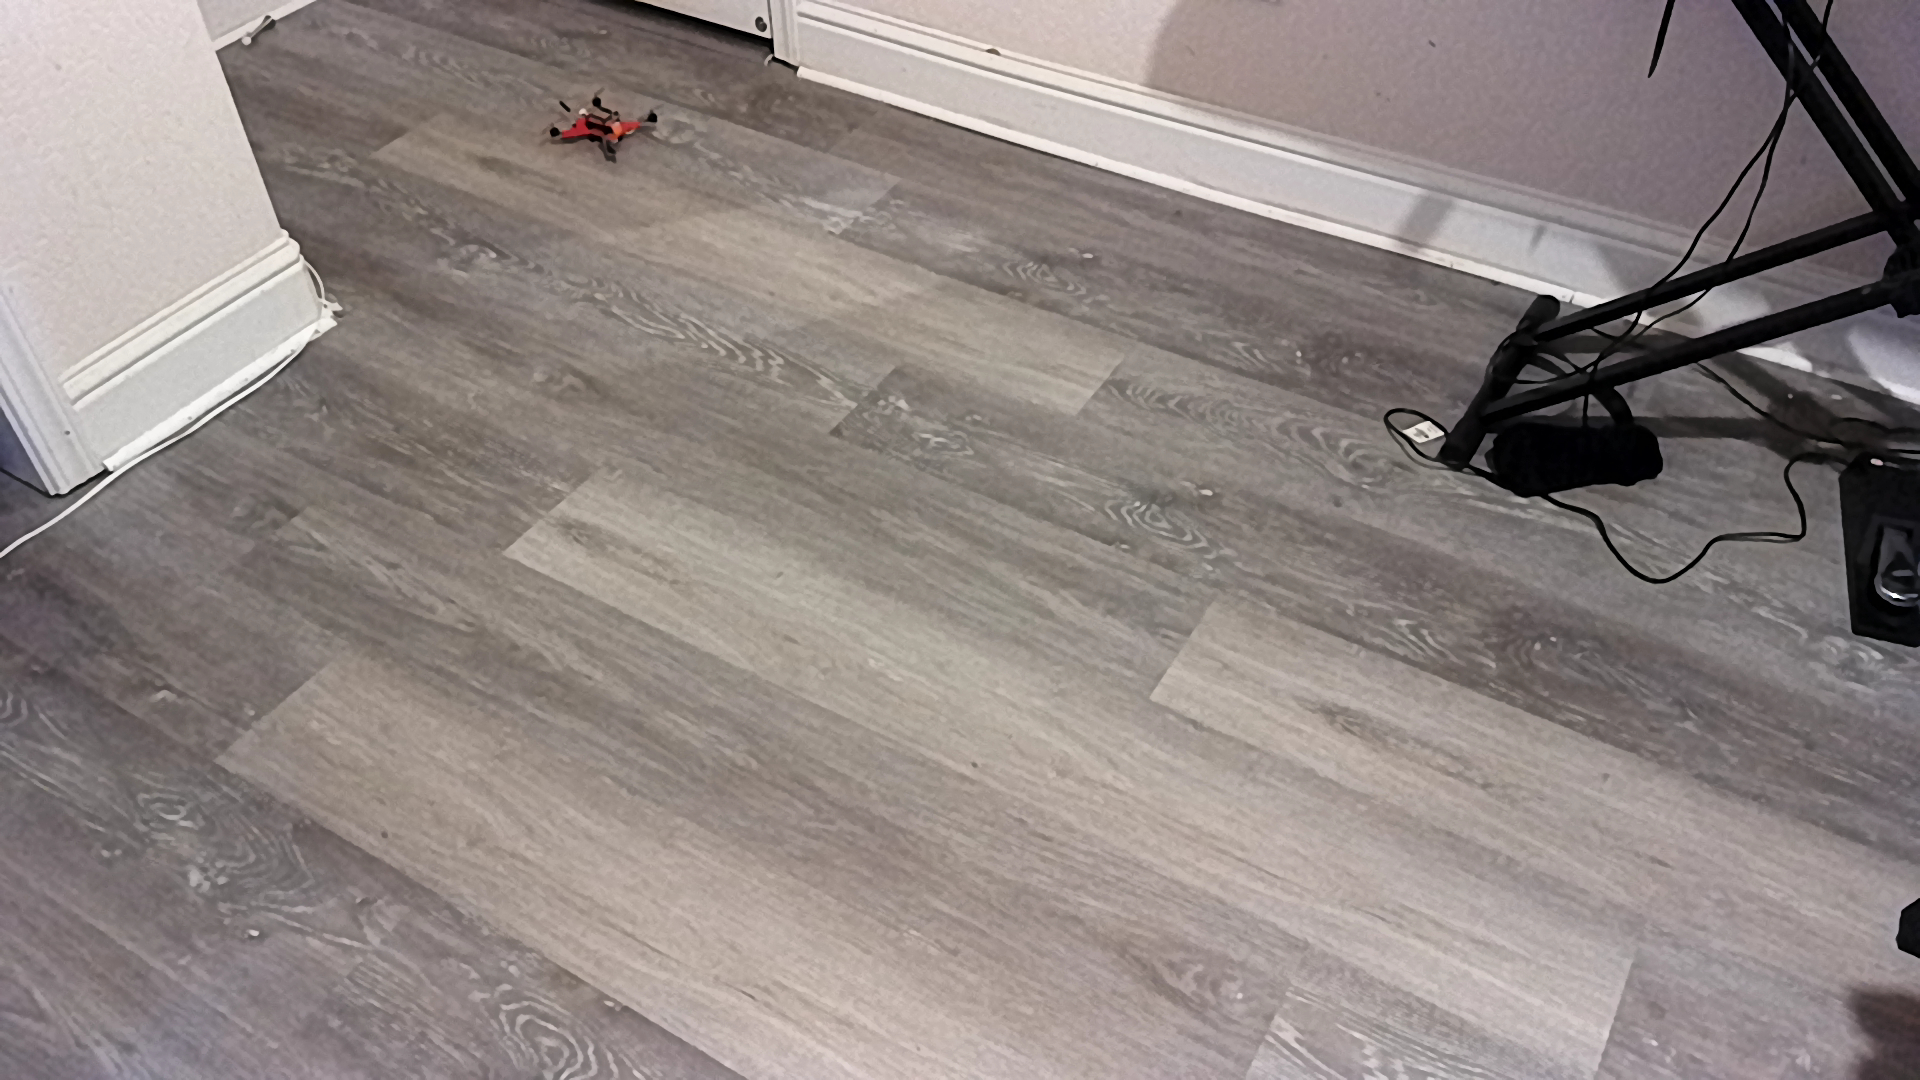drone: (525, 76, 680, 173)
